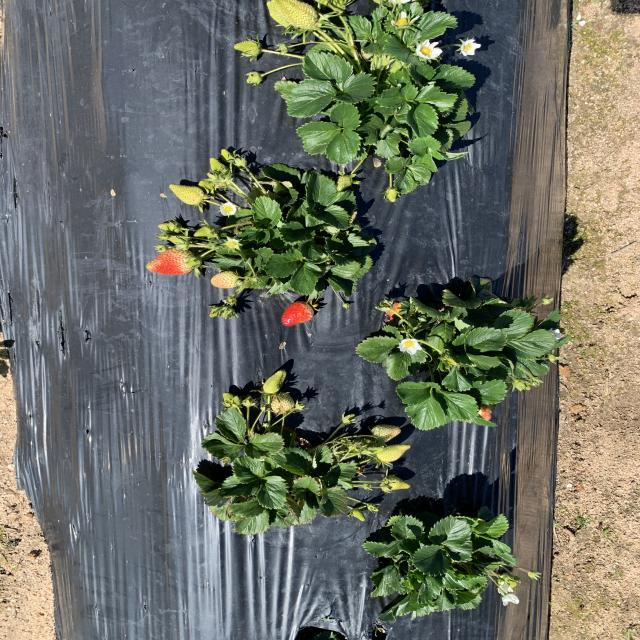unripe: (147, 247, 199, 275), (278, 302, 318, 324)
